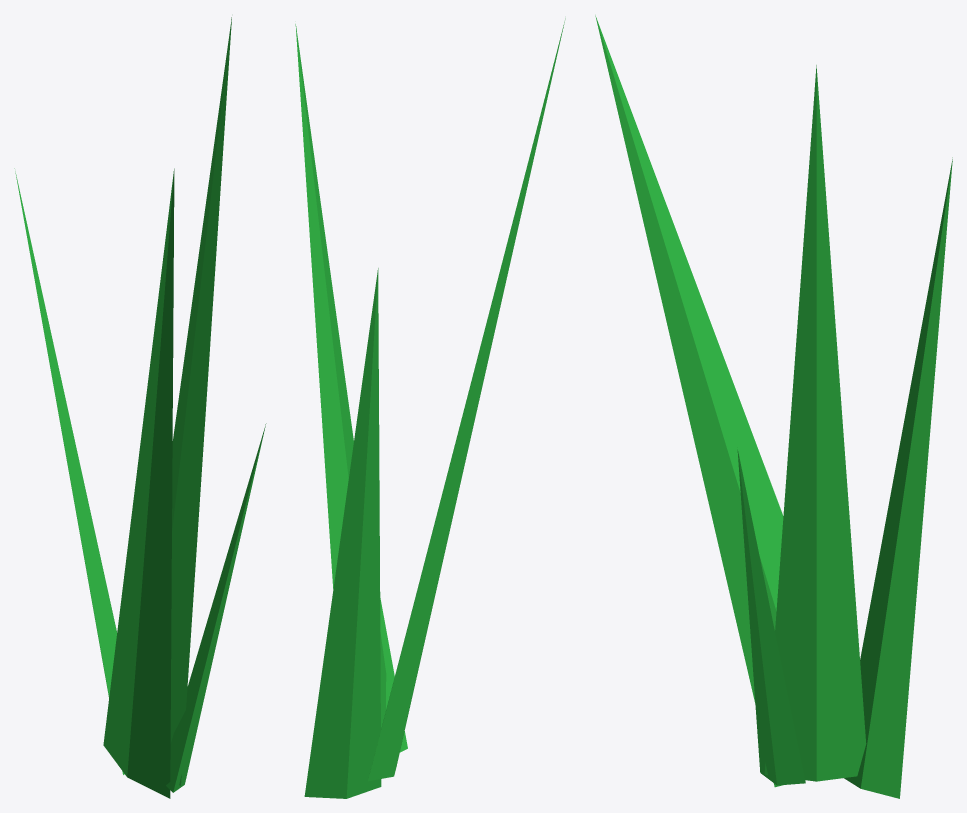
The model's file is Grass 1.obj.
The picture shows the model from 3 angles, left to right: view 1: azimuth 30°, elevation 25°; view 2: azimuth 150°, elevation 25°; view 3: azimuth 270°, elevation 25°; orthographic projection. The views are drawn at different scales.
Visible parts, largest first — view 1: Grass 1; view 2: Grass 1; view 3: Grass 1.
Part boxes in pixels (x1,y1,x2,y2): Grass 1: [14, 17, 266, 798]; Grass 1: [295, 18, 565, 798]; Grass 1: [595, 15, 952, 798].
Bounding box in the file's own units: 0.0471 × 0.2029 × 0.0861.
